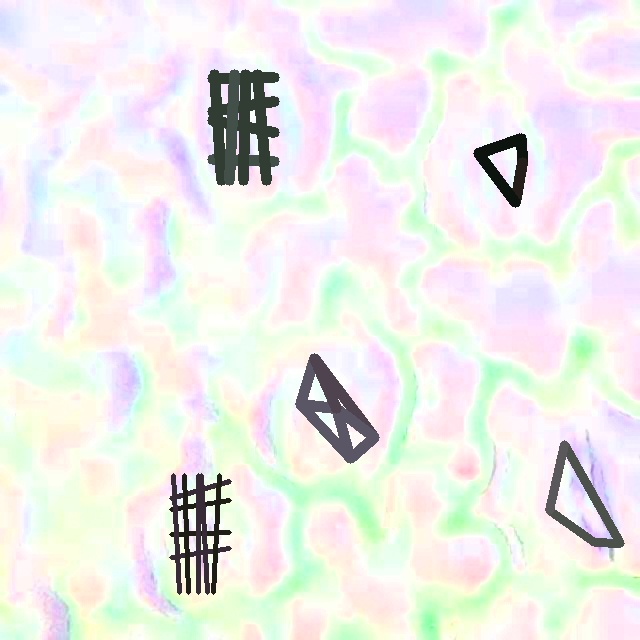close: (295, 353, 378, 462)
open: (545, 440, 624, 546), (207, 69, 279, 185), (169, 473, 231, 594), (474, 134, 527, 207)
